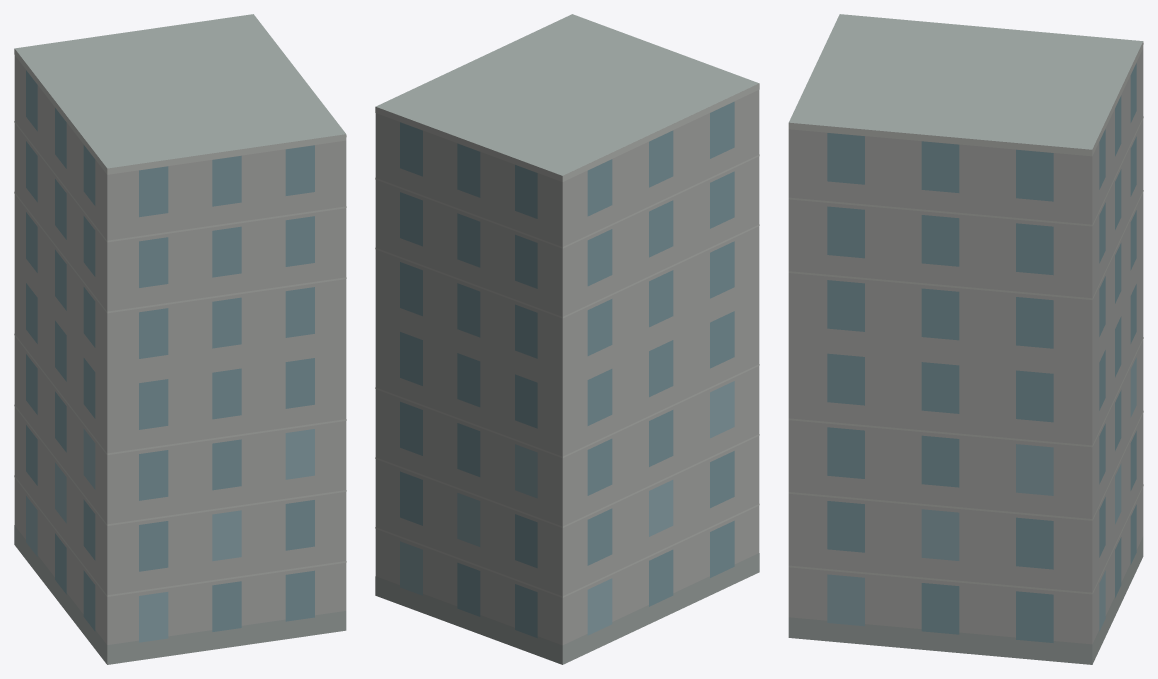
Rendered from survey-upis-32649390.glb.
3 views of the same model, side by side, from view 1: azimuth 30°, elevation 25°; view 2: azimuth 150°, elevation 25°; view 3: azimuth 270°, elevation 25° (orthographic). The views are drawn at different scales.
Parts seen in each view (by area): view 1: survey-upis-32649390.tmp; view 2: survey-upis-32649390.tmp; view 3: survey-upis-32649390.tmp.
Part boxes in pixels (box(x1,y1,x2,y2)): survey-upis-32649390.tmp: box(14, 14, 346, 664); survey-upis-32649390.tmp: box(375, 14, 759, 664); survey-upis-32649390.tmp: box(788, 14, 1143, 664).
Bounding box in the file's own units: 10.76 × 19 × 11.88.
